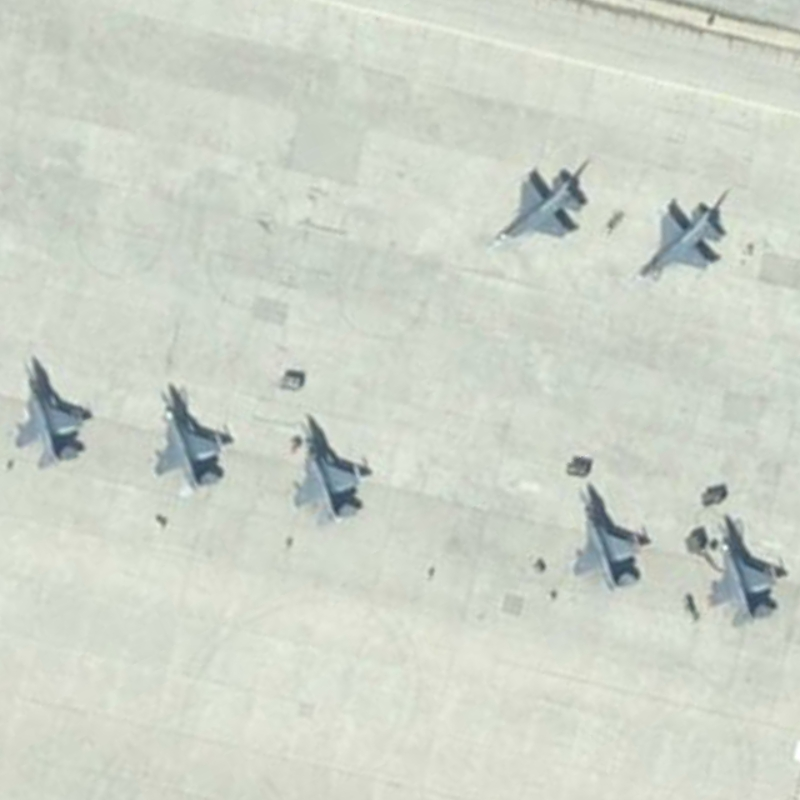A5: (693, 506, 793, 633), (2, 346, 102, 471), (283, 405, 378, 532), (143, 382, 235, 502), (487, 158, 593, 255), (627, 196, 735, 290), (568, 477, 652, 596)
